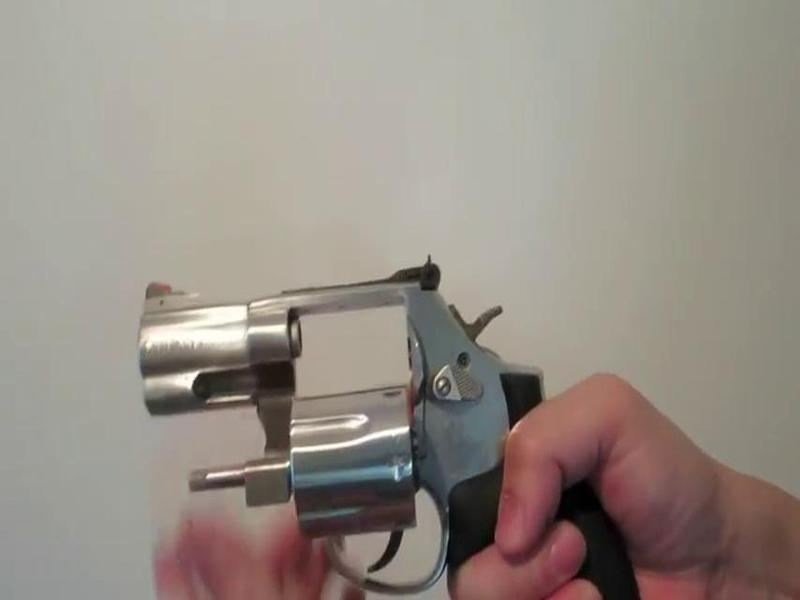Revolver: (121, 244, 643, 600)
